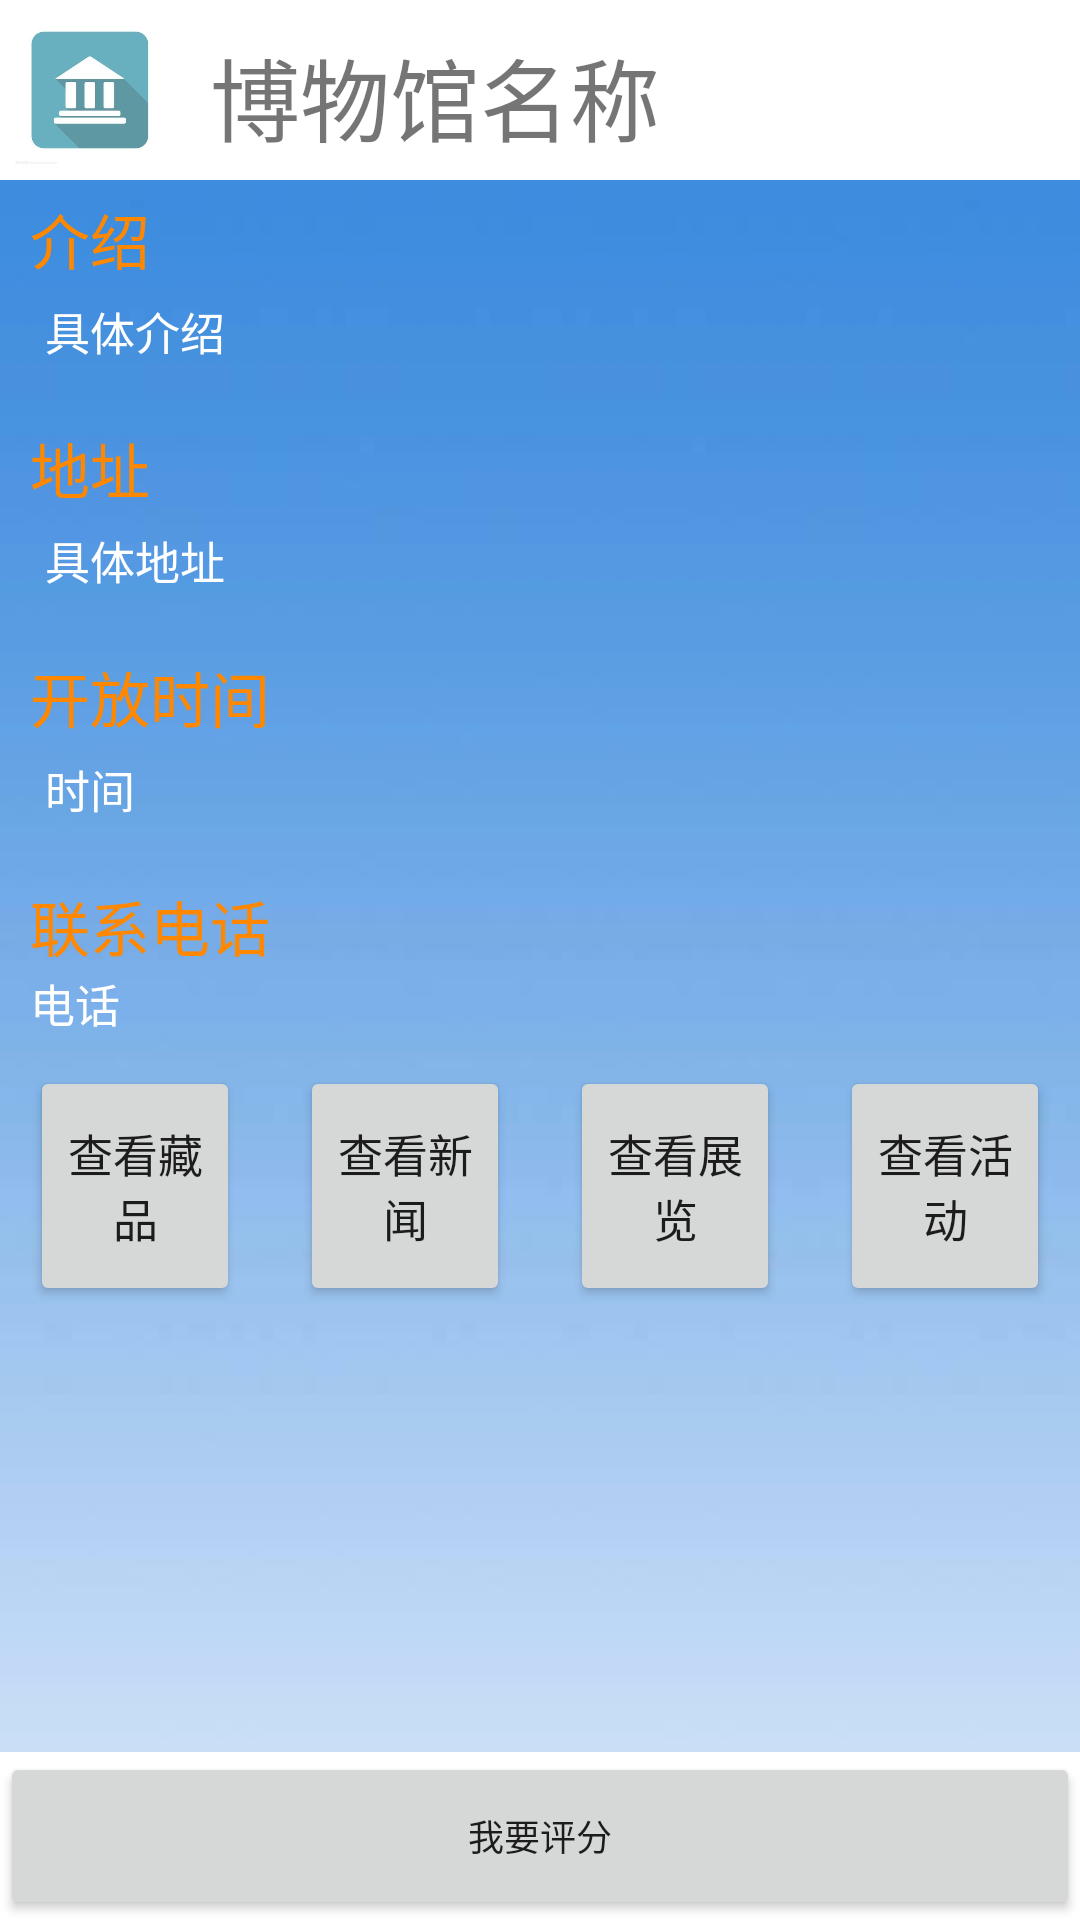

Point at icon controls on the screen. Image size 1080*1920, points as point (x, y).
museumdet: point (90, 90)
